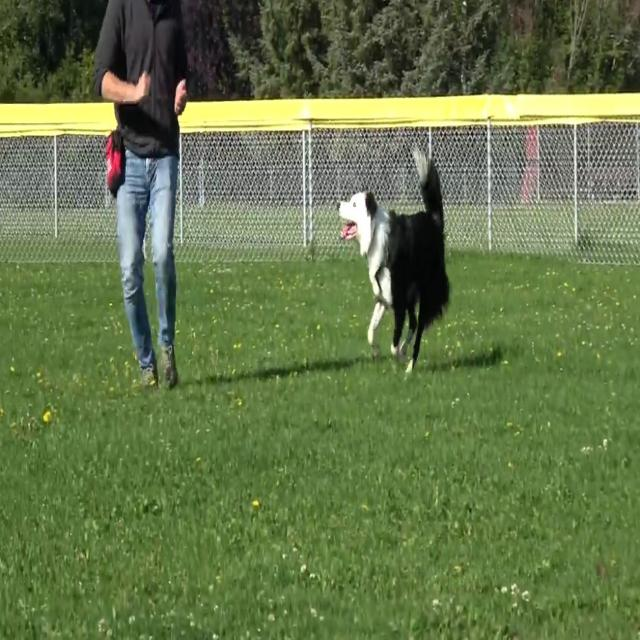Dog: (136, 142, 451, 378)
